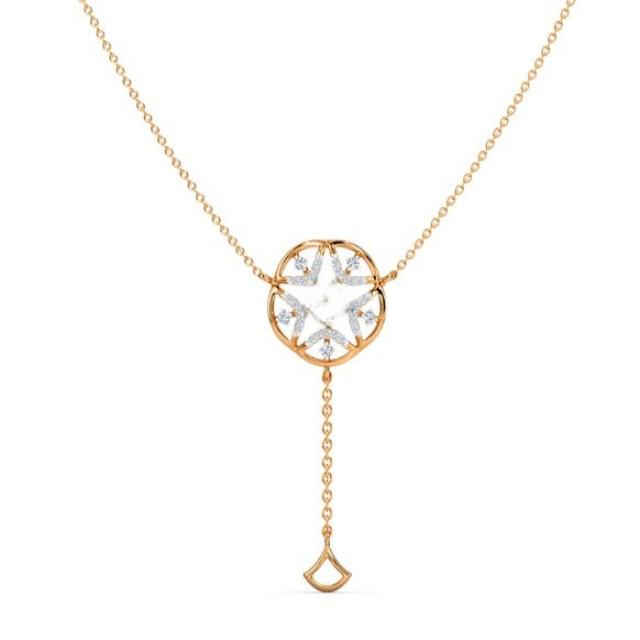missing gem: (309, 280, 352, 327)
